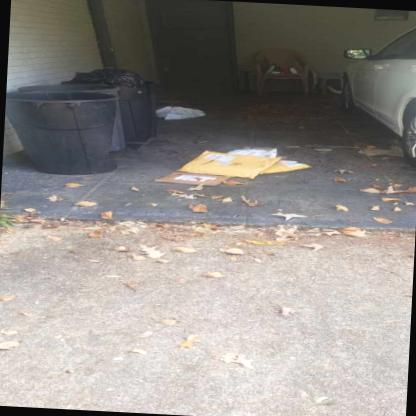envelope: (180, 150, 285, 180), (148, 169, 230, 186)
